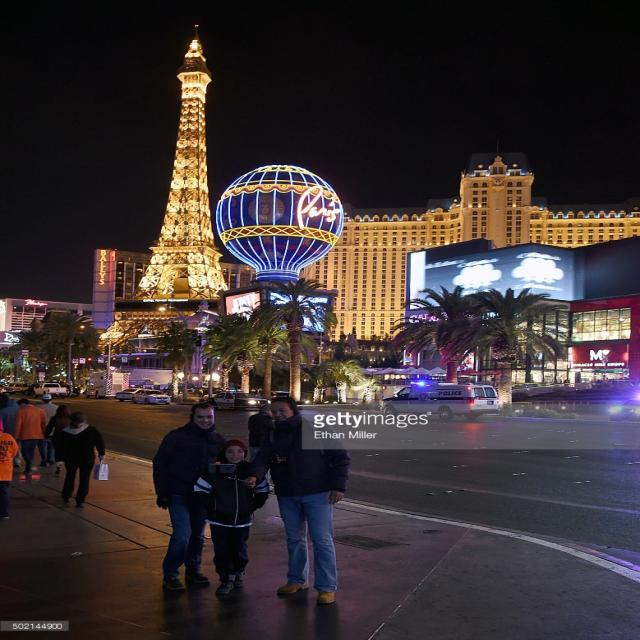body: (242, 395, 355, 607), (148, 401, 232, 593), (189, 436, 274, 598), (0, 376, 277, 404), (51, 410, 111, 509), (12, 396, 49, 475), (0, 417, 21, 521), (42, 404, 72, 475), (36, 394, 61, 466), (246, 403, 274, 463), (0, 398, 22, 470), (556, 374, 638, 390)
